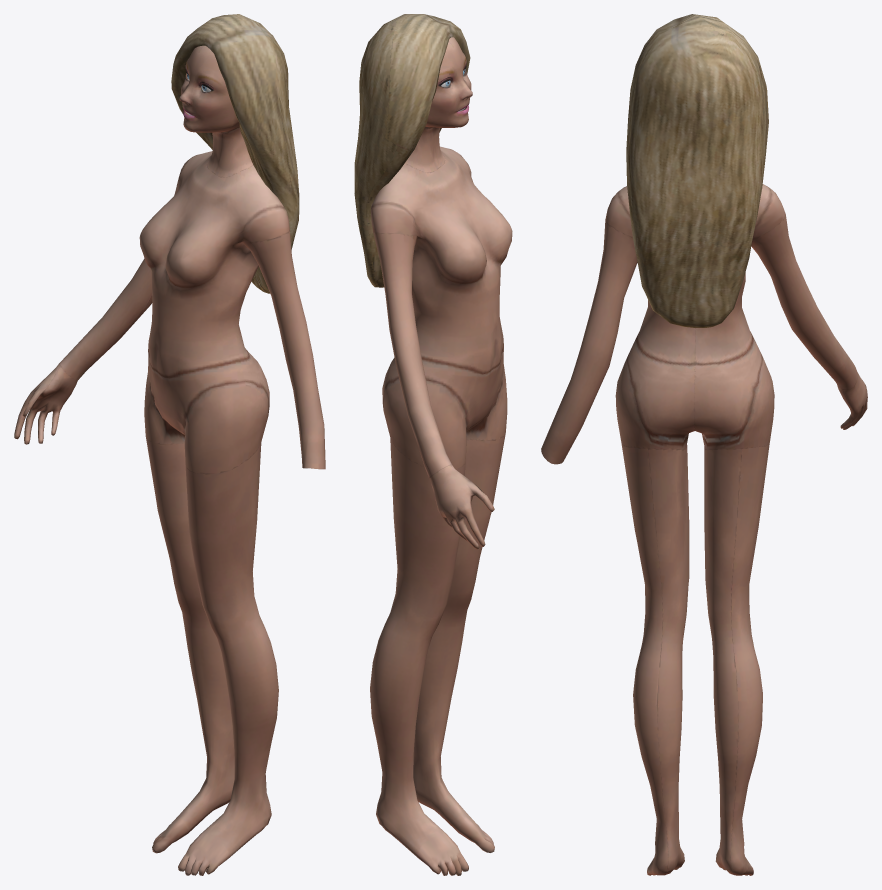
The model's file is SM_Dolls_Barbie_0.fbx.
3 renders of one model, left to right at view 1: azimuth 30°, elevation 25°; view 2: azimuth 150°, elevation 25°; view 3: azimuth 270°, elevation 25°, orthographic. The views are drawn at different scales.
Parts seen in each view (by area): view 1: SM_Dolls_Barbie_0; view 2: SM_Dolls_Barbie_0; view 3: SM_Dolls_Barbie_0.
Part boxes in pixels (left/top/right/bottom): SM_Dolls_Barbie_0: left=14, top=14, right=325, bottom=875; SM_Dolls_Barbie_0: left=354, top=14, right=512, bottom=875; SM_Dolls_Barbie_0: left=541, top=14, right=867, bottom=875.
Size of the model in its own units: 9.02 by 12.52 by 37.38.
Materials: 1 (1 with a texture image).
